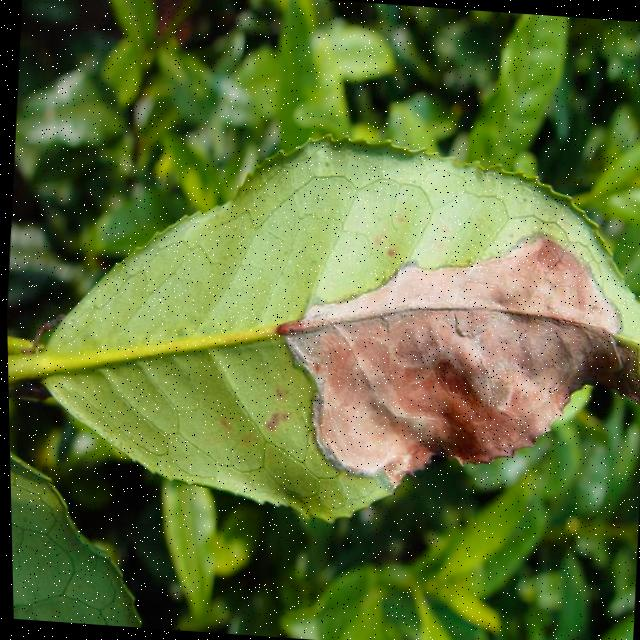Tea cloud leaf blight: (269, 200, 634, 496)
